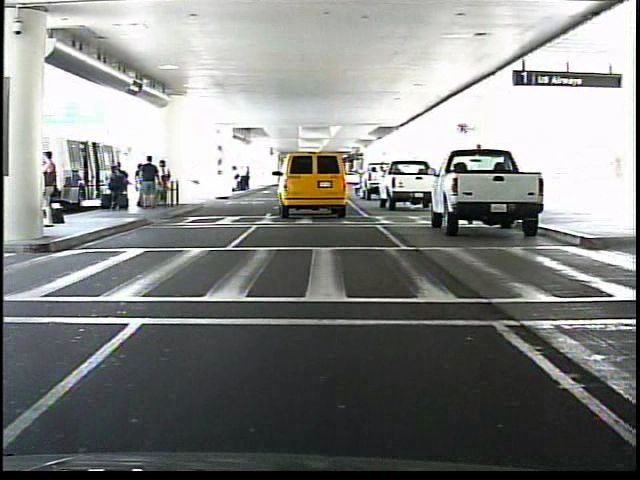person: (43, 146, 67, 233)
